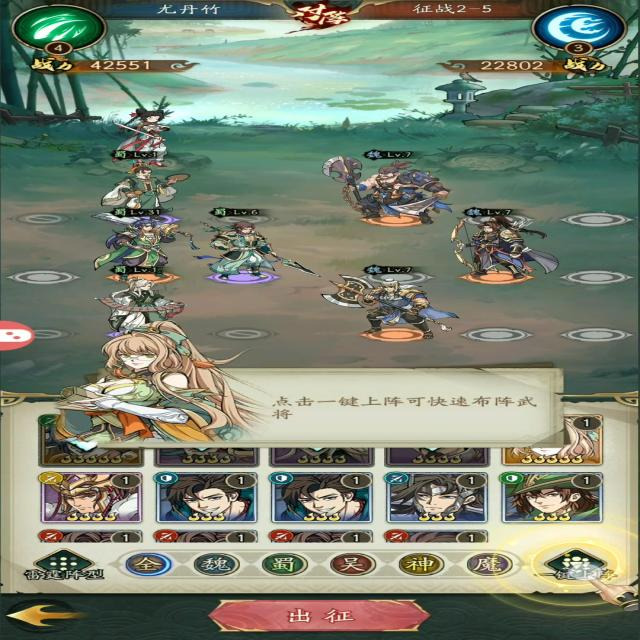hint-guide: (55, 320, 579, 451)
operation-back: (4, 600, 113, 637)
operation-camp: (118, 547, 178, 583), (462, 551, 512, 582), (259, 550, 308, 580), (393, 550, 441, 580), (188, 551, 241, 578), (328, 551, 381, 578)
operation-enter: (198, 599, 432, 636)
operation-formation: (18, 548, 106, 586)
operation-oneKeyDeployment: (536, 545, 620, 586)
operation-outLineup: (494, 471, 612, 526), (379, 470, 492, 525), (265, 473, 373, 526), (32, 474, 148, 519), (160, 470, 251, 521)
